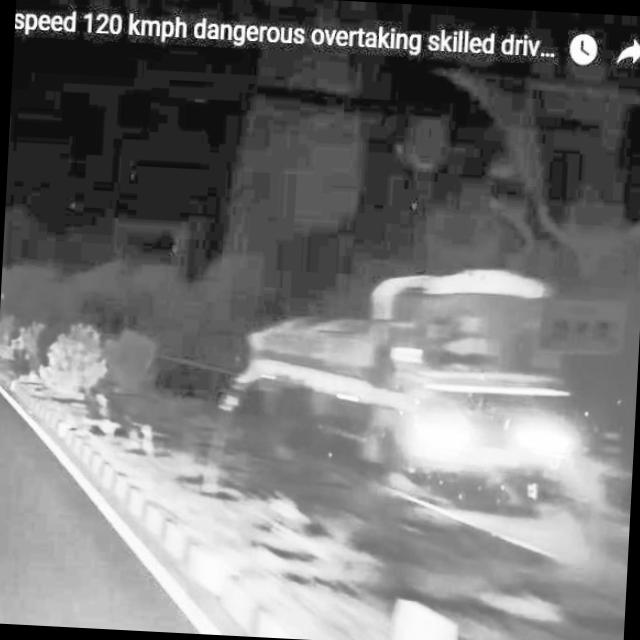Truck: (212, 253, 634, 521)
